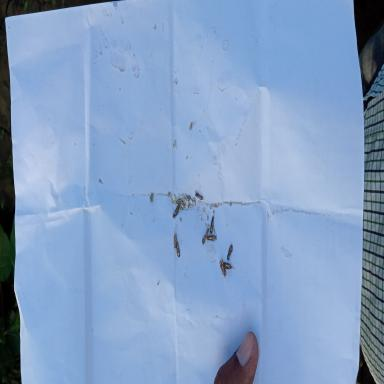pbw: (219, 258, 228, 282), (202, 223, 209, 245), (172, 204, 180, 219), (227, 244, 233, 262), (194, 190, 204, 200), (206, 233, 217, 242), (223, 262, 235, 270), (210, 212, 214, 234), (176, 240, 180, 258), (173, 232, 177, 249), (176, 200, 183, 204)
